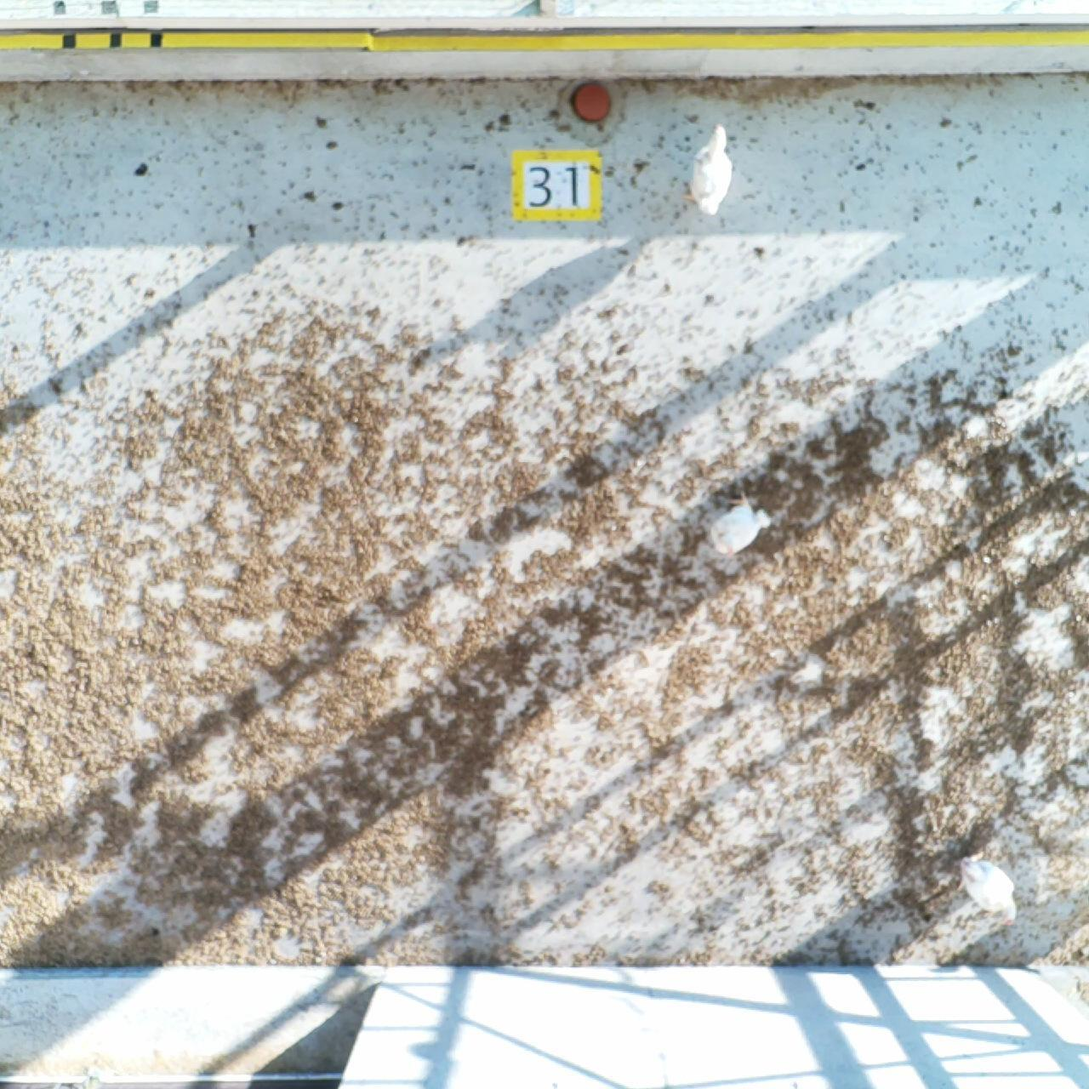chicken: (679, 123, 752, 221), (955, 850, 1024, 929), (706, 489, 779, 562)
